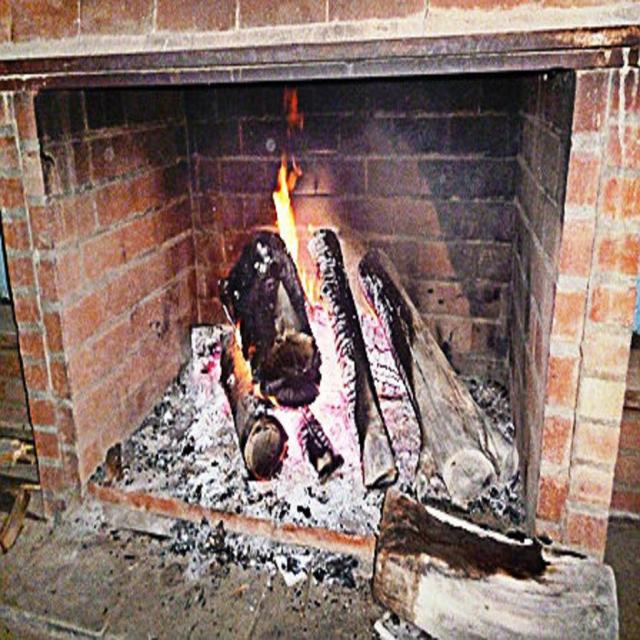Fire: (185, 136, 445, 412)
